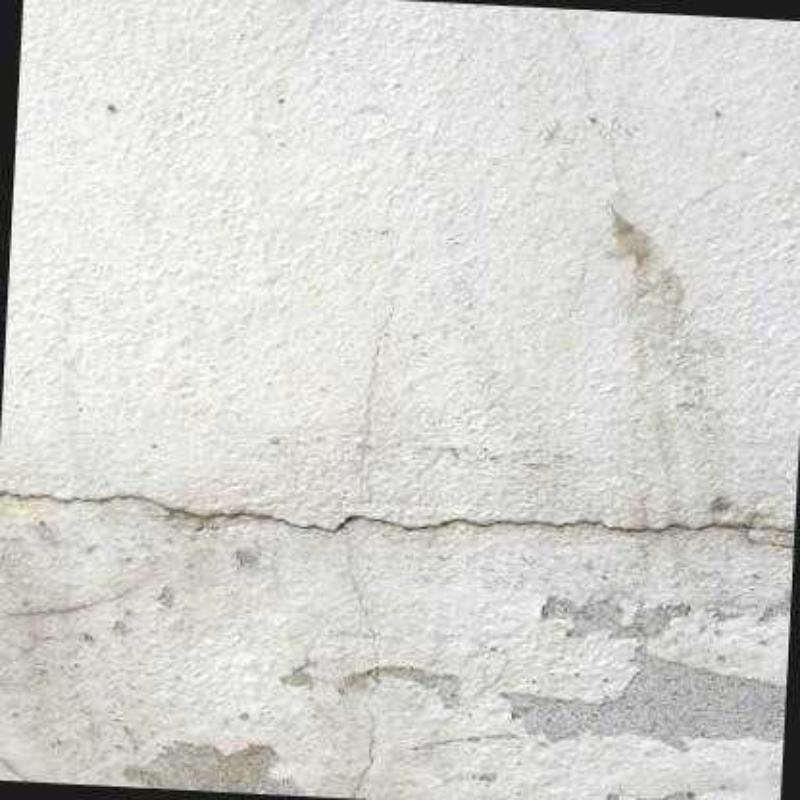pothole: (0, 492, 794, 532)
